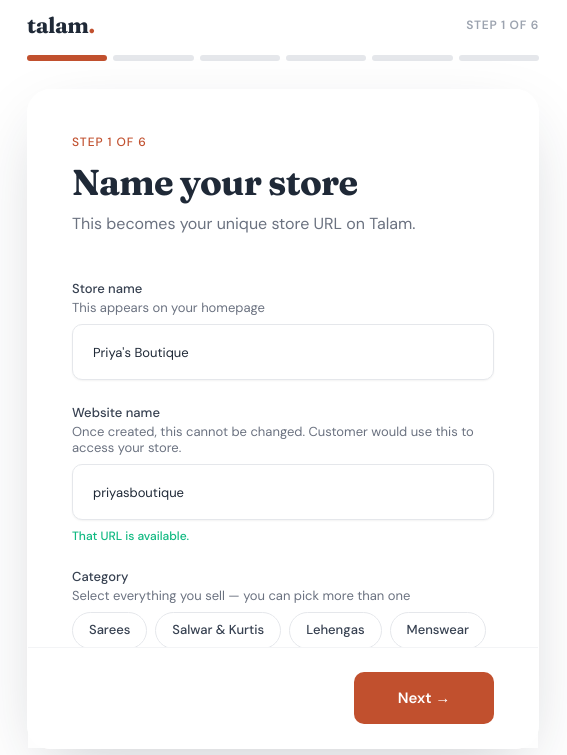
OnboardingWizard › blocks navigation and surfaces the error when a step save fails
The image size is (567, 755).
Click the button "Next →".
click(424, 698)  # box x1=354 y1=672 x2=494 y2=724
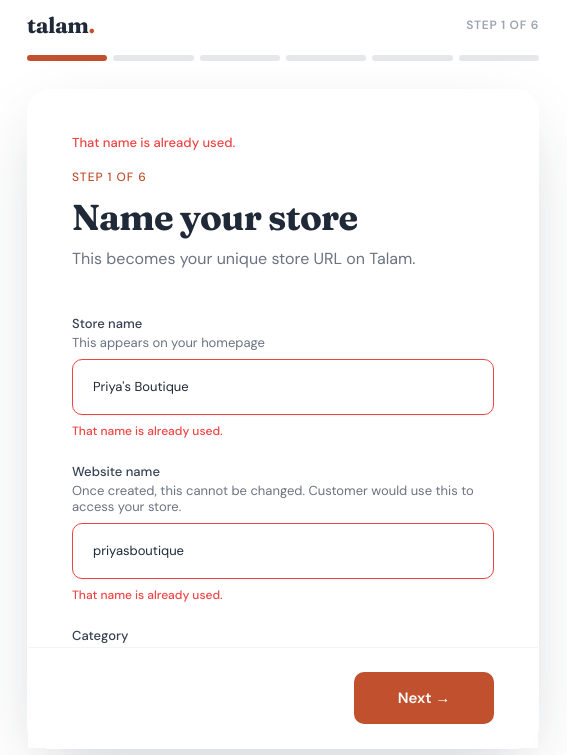
Expected: the heading "Name your store" is shown, x1=72 y1=195 x2=358 y2=239
Result: the 1st text "That name is already used." is shown at x1=72 y1=134 x2=235 y2=151
